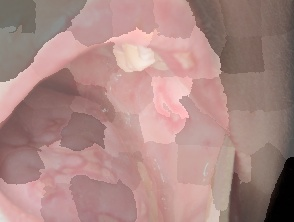SJS-TEN: (4, 102, 121, 217)
